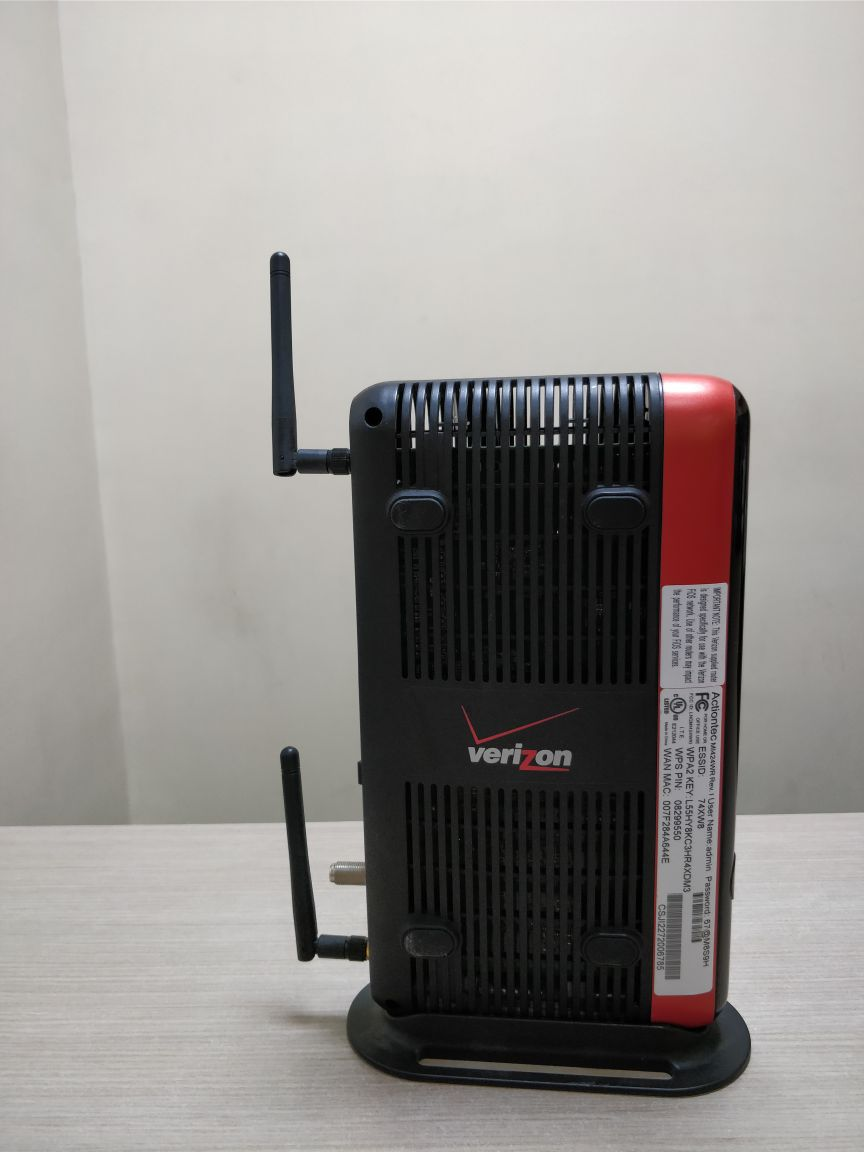Verizon Router: (184, 204, 830, 1115)
